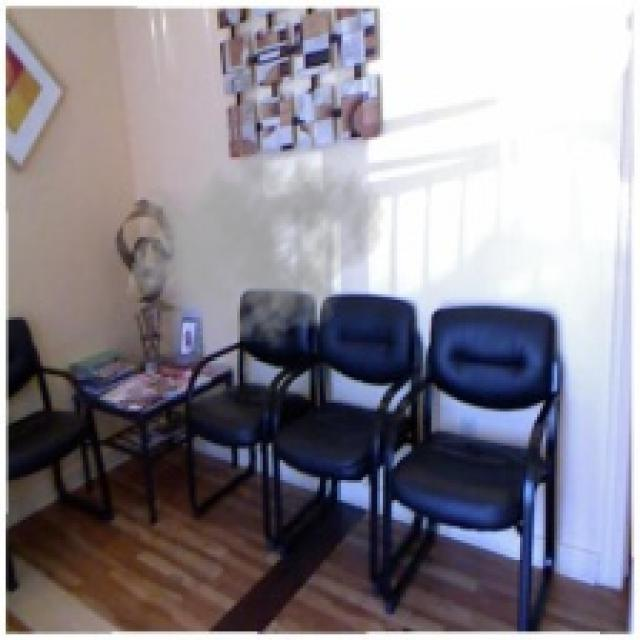Smoke: (126, 134, 386, 352)
